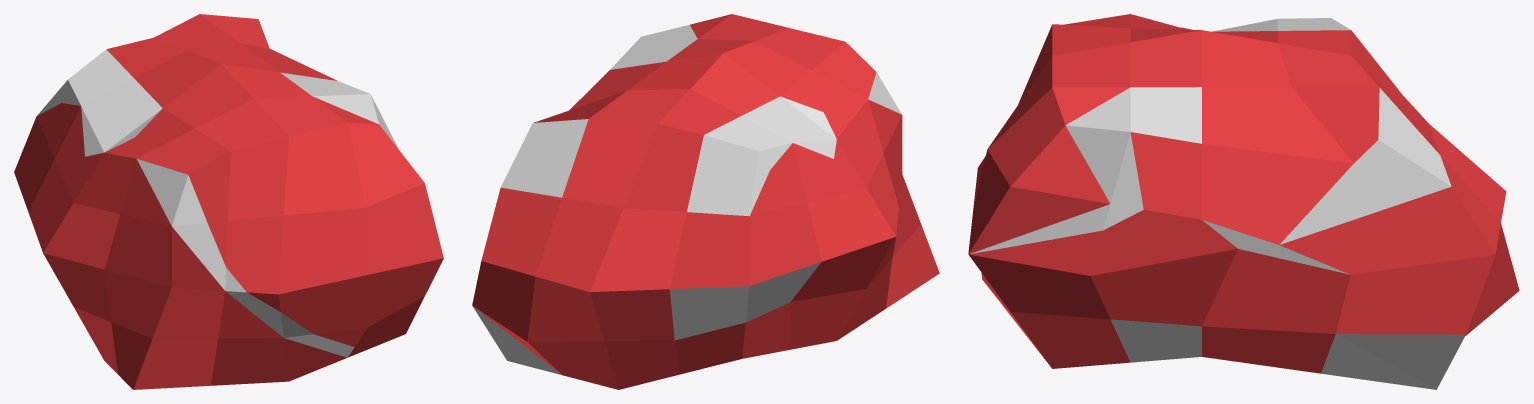
Rendered from MeatTwo.fbx.
3 renders of one model, left to right at view 1: azimuth 30°, elevation 25°; view 2: azimuth 150°, elevation 25°; view 3: azimuth 270°, elevation 25°, orthographic. The views are drawn at different scales.
Visible parts, largest first — view 1: Cube; view 2: Cube; view 3: Cube.
Boxes of the visible parts, bbox=[...] form: Cube: bbox=[14, 14, 443, 389]; Cube: bbox=[472, 14, 939, 389]; Cube: bbox=[968, 14, 1519, 389].
Size of the model in its own units: 286 by 233 by 369.
